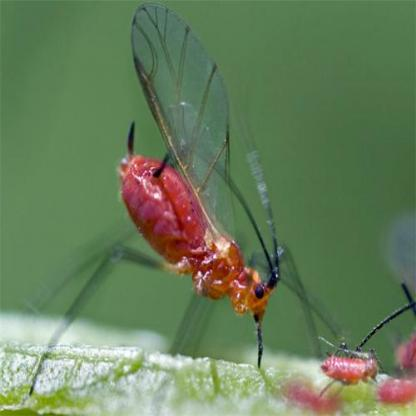aphid: (41, 2, 324, 377), (305, 310, 389, 395)
